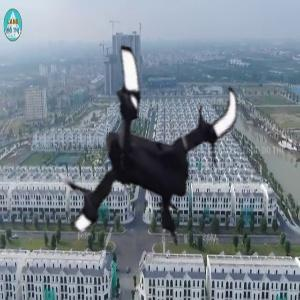drone: (27, 43, 262, 278)
